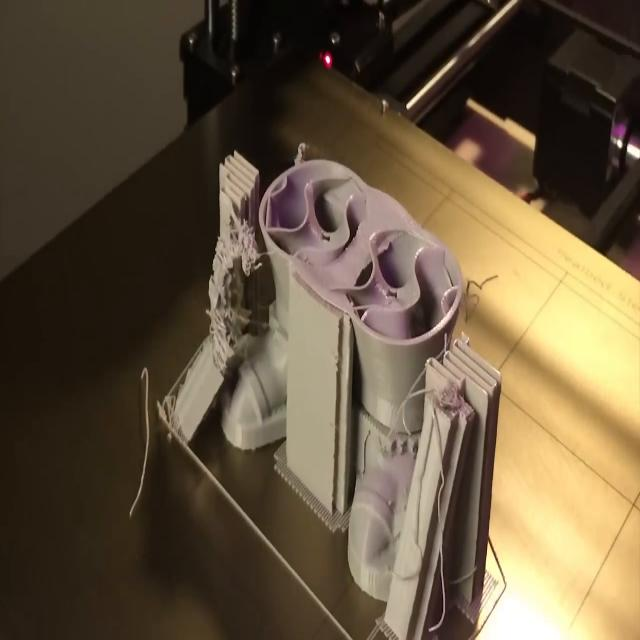spaghetti: (385, 363, 475, 640), (98, 364, 196, 512), (460, 268, 495, 342), (230, 220, 268, 278), (292, 134, 316, 178)
